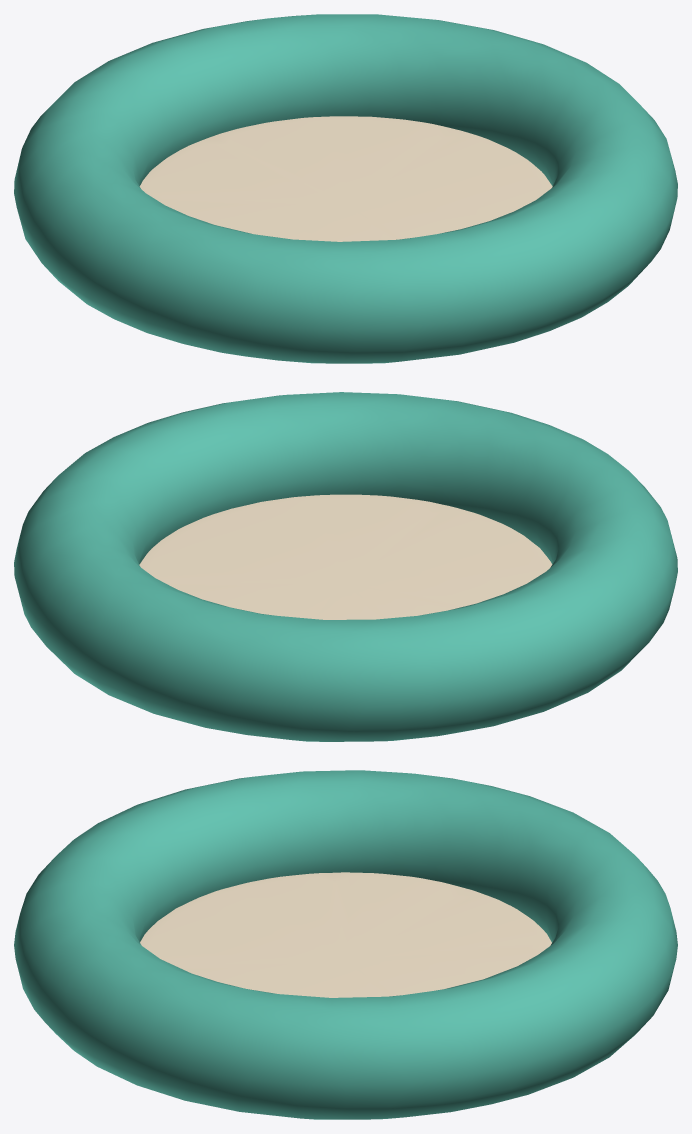
File: plates_a.glb
3 views of the same model, one above another, from view 1: azimuth 30°, elevation 25°; view 2: azimuth 150°, elevation 25°; view 3: azimuth 270°, elevation 25° (orthographic).
Visible parts, largest first — view 1: body; view 2: body; view 3: body.
Part boxes in pixels (x1,y1,x2,y2): body: [14, 14, 677, 363]; body: [14, 392, 677, 741]; body: [14, 770, 677, 1119].
Bounding box in the file's own units: 0.234 × 0.0434 × 0.234.
